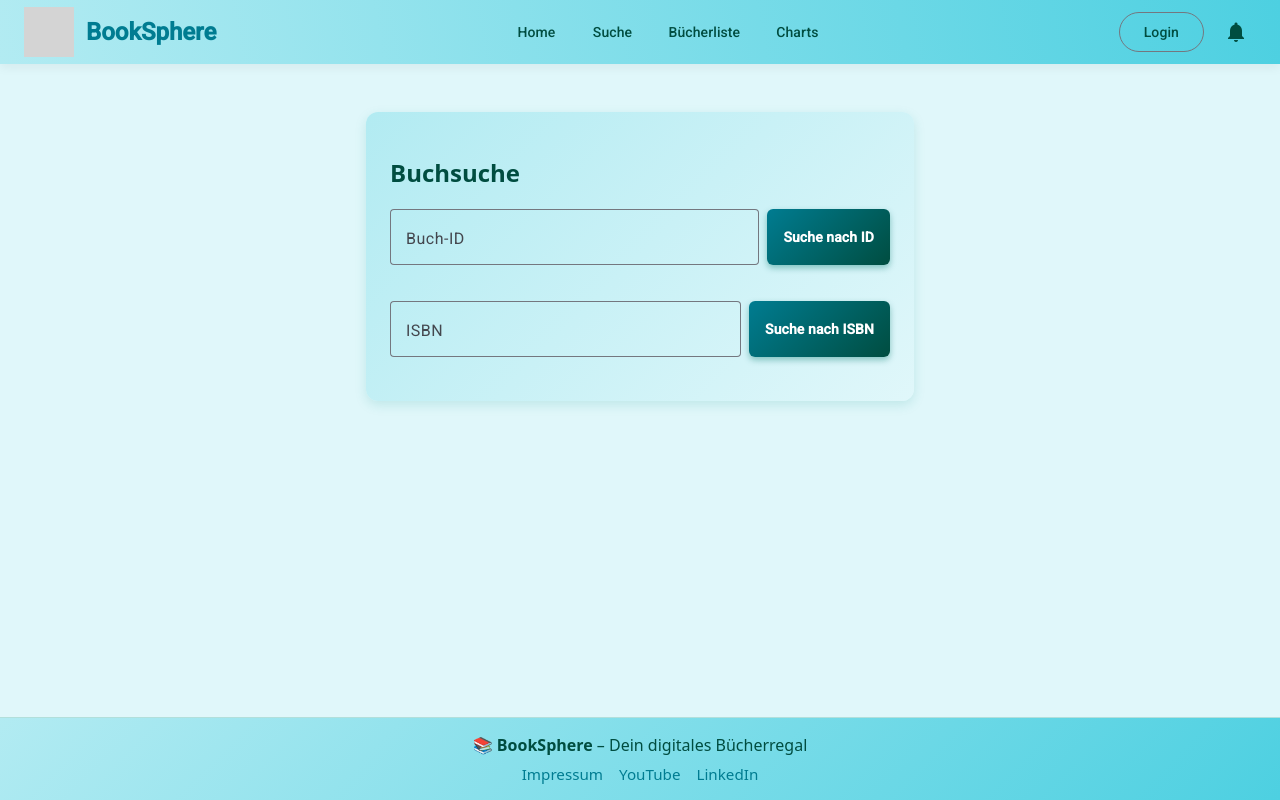
HomeComponent › should show error if there is no isbn
Check: the field with placeholder "ISBN eingeben" is shown, box [406,317,725,341]
Click the button "Suche nach ISBN": (820,329) [749,301,890,357]
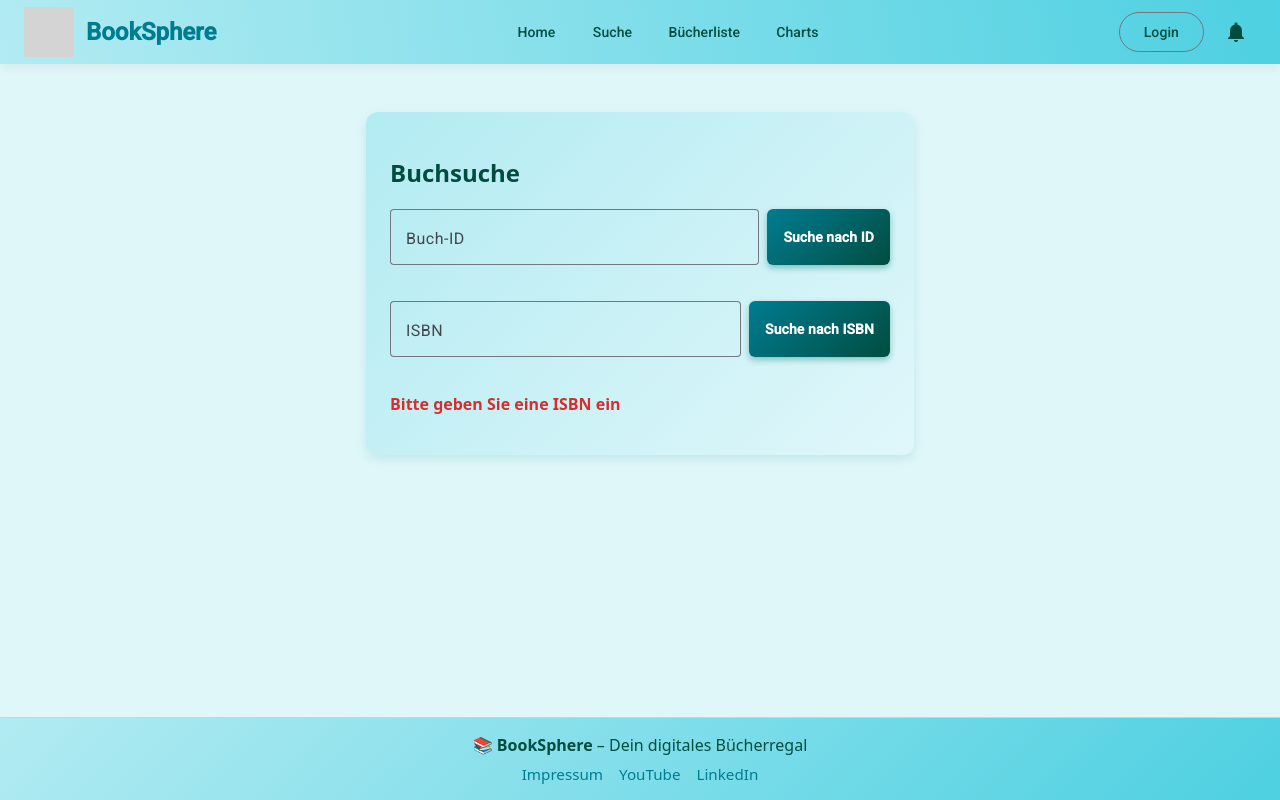
Check: the text with class "error" reads "Bitte geben Sie eine ISBN ein", box [390,393,621,415]
